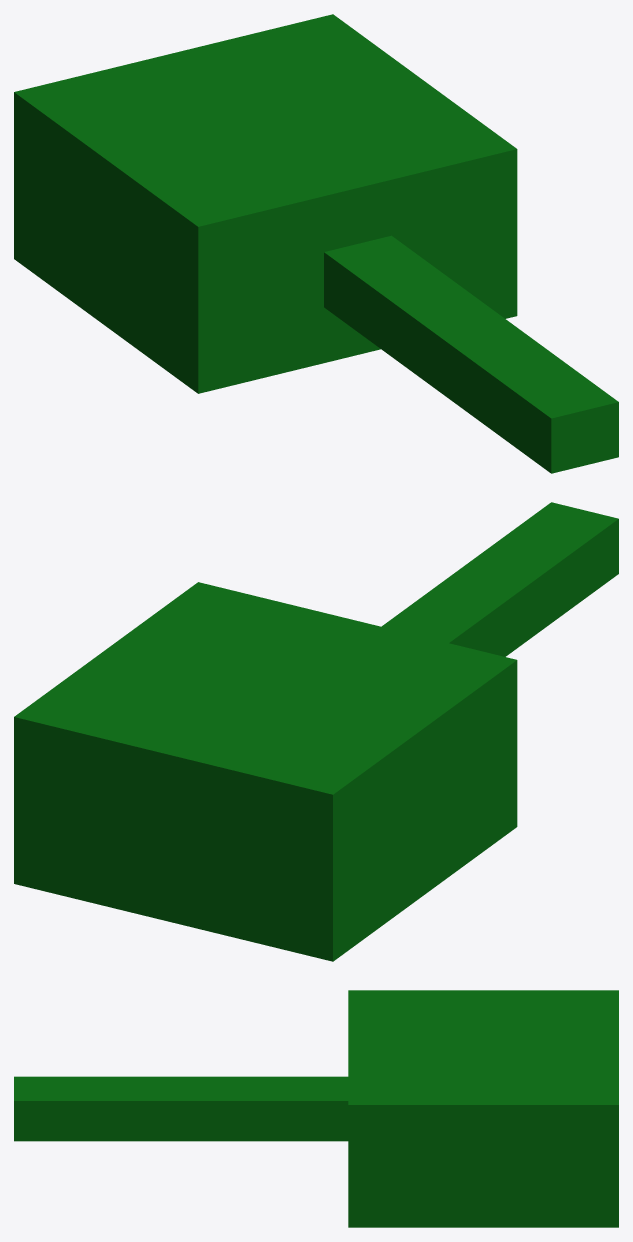
The model's file is tank_head.glb.
The picture shows the model from 3 angles, top to bottom: view 1: azimuth 30°, elevation 25°; view 2: azimuth 150°, elevation 25°; view 3: azimuth 270°, elevation 25°; orthographic projection. The views are drawn at different scales.
Parts seen in each view (by area): view 1: Top; view 2: Top; view 3: Top.
Part boxes in pixels (x1=…): Top: x1=14, y1=14, x2=618, y2=473; Top: x1=14, y1=502, x2=618, y2=961; Top: x1=14, y1=990, x2=618, y2=1227.
Size of the model in its own units: 2 by 1 by 4.47.
1 material, 1 textured.
